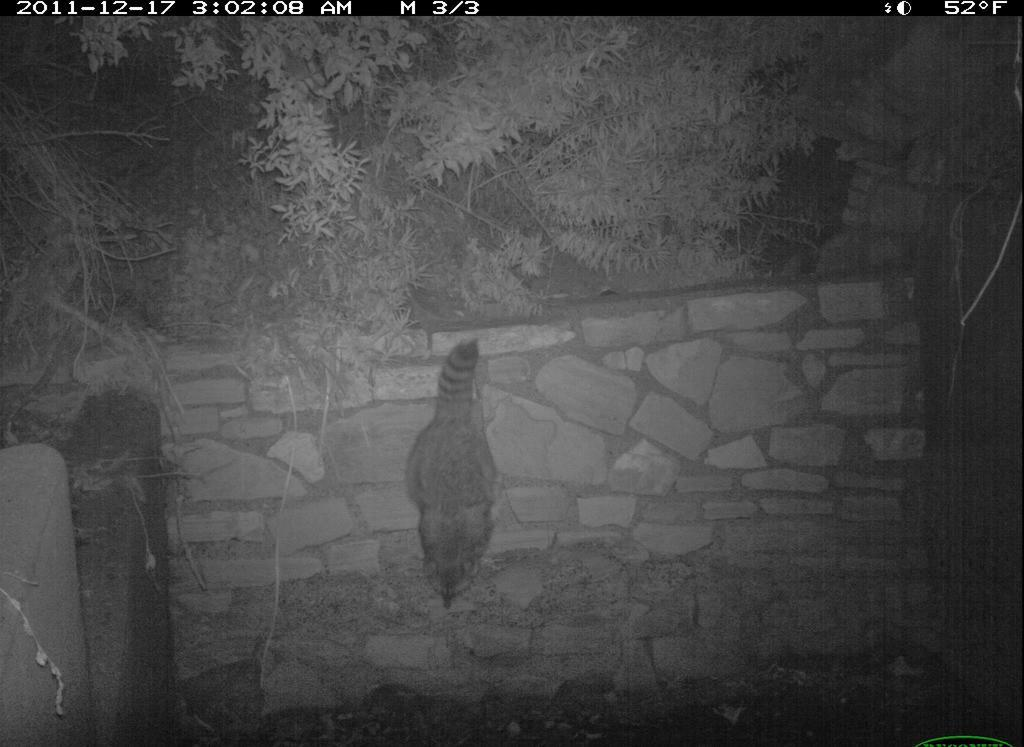raccoon: (400, 336, 523, 630)
